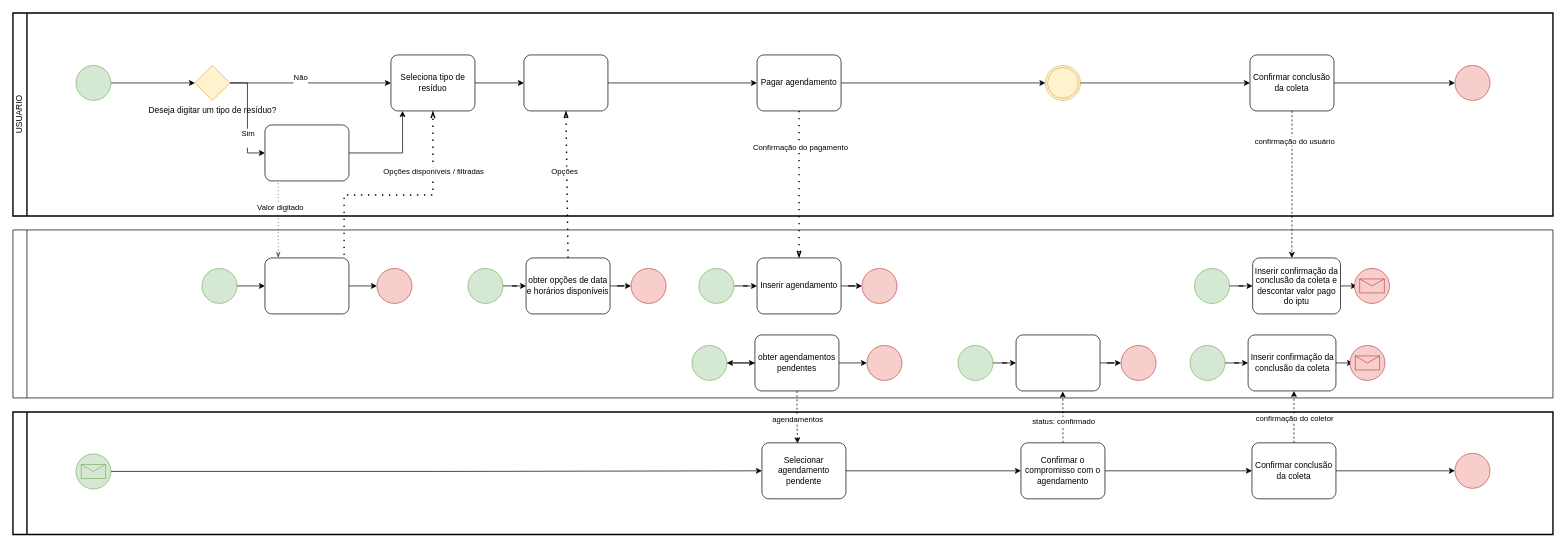
Some shapes in this 1565 by 547 pixel diagram are drawn without their labels. The shapes that lost their labels are listed below. From the top down, each one's box as (x1, y1, x2, y2) in pixels, then its label:
(523, 54, 608, 111): Seleciona uma data e horário de agendamento
(264, 124, 349, 181): Digita o tipo de resíduo
(264, 257, 349, 314): obter opções de tipos de resíduo
(12, 229, 1553, 398): sistema
(1015, 334, 1100, 391): Inserir confirmação do agendamento
(12, 411, 1553, 535): COLETOR
